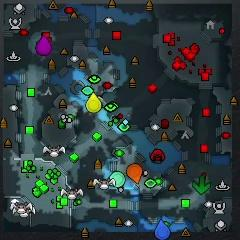p1: (155, 219, 170, 240)
p2: (109, 171, 126, 188)
p3: (37, 36, 50, 55)
p4: (86, 92, 100, 112)
p5: (127, 164, 142, 185)
x4: (192, 175, 210, 195)
